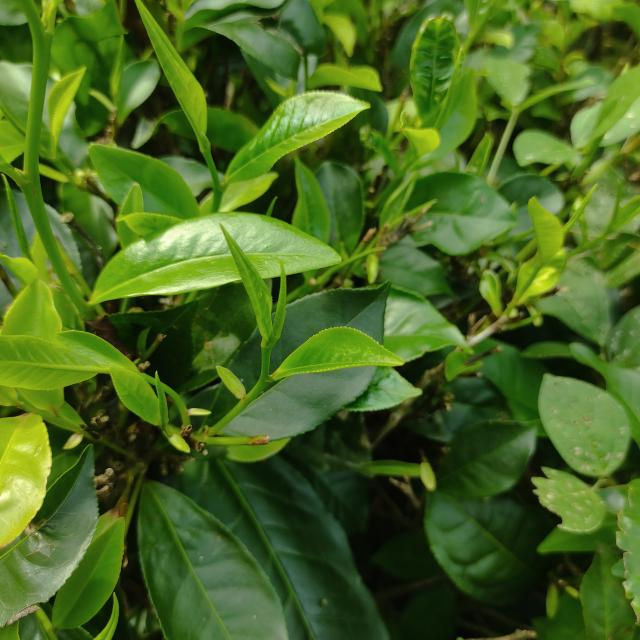unopened_leaf: (424, 35, 472, 146), (257, 252, 295, 360), (556, 178, 606, 242), (87, 587, 127, 640), (146, 357, 171, 431)
